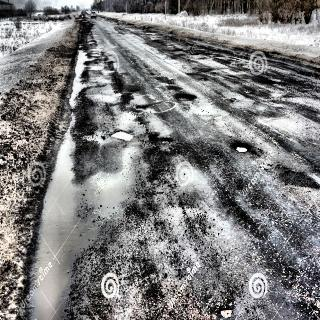pothole: (78, 34, 133, 228), (150, 66, 202, 110), (231, 136, 256, 158)
